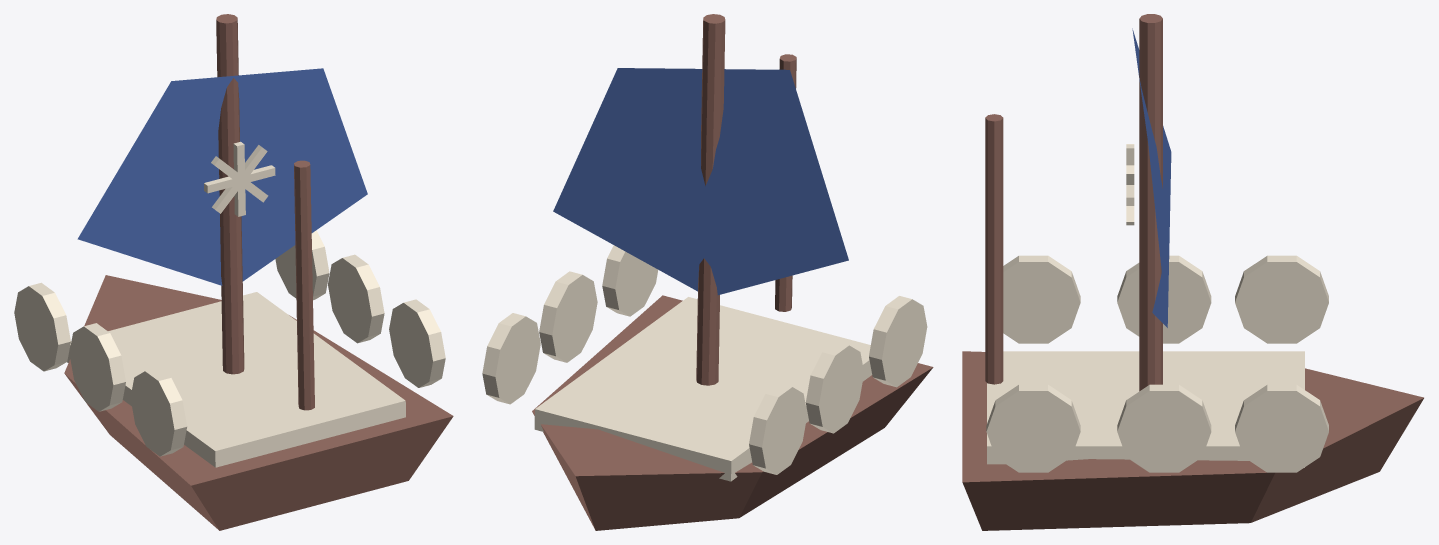
The model's file is escort-outremer.glb.
The picture shows the model from 3 angles, left to right: view 1: azimuth 30°, elevation 25°; view 2: azimuth 150°, elevation 25°; view 3: azimuth 270°, elevation 25°; orthographic projection. The views are drawn at different scales.
Visible parts, largest first — view 1: Distinctive sail, Pearl deck, Carved hull, Mast, Second mast, Escort shield.004, Escort shield, Escort shield.002, Escort shield.001, Escort shield.003, Escort shield.005, Compass emblem.002 (+3 smaller); view 2: Distinctive sail, Pearl deck, Carved hull, Mast, Escort shield.004, Escort shield.001, Escort shield.005, Escort shield, Escort shield.002, Escort shield.003, Second mast; view 3: Carved hull, Pearl deck, Mast, Escort shield.003, Escort shield.004, Escort shield.002, Escort shield.005, Escort shield, Second mast, Escort shield.001, Distinctive sail.
Part boxes in pixels (box(x1,y1,x2,y2)): Distinctive sail: box(77, 68, 367, 285); Pearl deck: box(67, 292, 405, 467); Carved hull: box(64, 275, 453, 530); Mast: box(216, 14, 244, 374); Second mast: box(294, 160, 314, 410); Escort shield.004: box(328, 254, 384, 343); Escort shield: box(130, 368, 187, 456); Escort shield.002: box(14, 282, 70, 371); Escort shield.001: box(69, 323, 125, 411); Escort shield.003: box(389, 299, 445, 387); Escort shield.005: box(275, 230, 329, 300); Compass emblem.002: box(204, 165, 275, 193); Distinctive sail: box(553, 68, 848, 295); Pearl deck: box(534, 297, 872, 481); Carved hull: box(532, 295, 933, 530); Mast: box(696, 14, 725, 385); Escort shield.004: box(539, 271, 597, 362); Escort shield.001: box(805, 342, 864, 433); Escort shield.005: box(482, 313, 540, 404); Escort shield: box(869, 296, 927, 387); Escort shield.002: box(749, 383, 807, 474); Escort shield.003: box(602, 245, 658, 316); Second mast: box(775, 54, 796, 311); Carved hull: box(962, 351, 1423, 530); Pearl deck: box(987, 351, 1304, 467); Mast: box(1139, 14, 1162, 391); Escort shield.003: box(986, 384, 1080, 472); Escort shield.004: box(1117, 384, 1211, 472); Escort shield.002: box(1235, 255, 1328, 343); Escort shield.005: box(1235, 384, 1328, 472); Escort shield: box(1003, 255, 1080, 343); Second mast: box(985, 114, 1003, 384); Escort shield.001: box(1117, 255, 1211, 343); Distinctive sail: box(1132, 28, 1171, 327).
Size of the model in its own units: 1.36 by 1.95 by 1.77.
